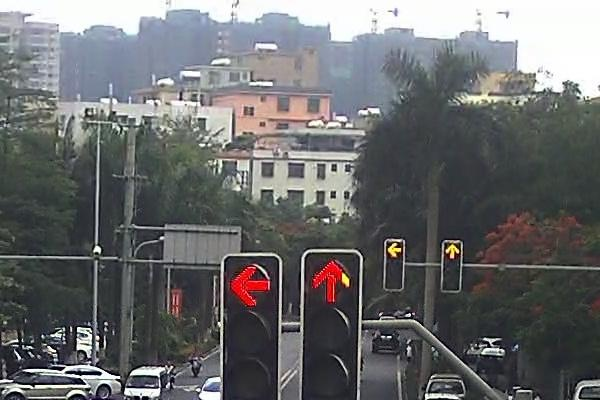redleft: (223, 254, 282, 309), (385, 239, 404, 260)
redstraight: (302, 252, 362, 304), (443, 239, 463, 260)
